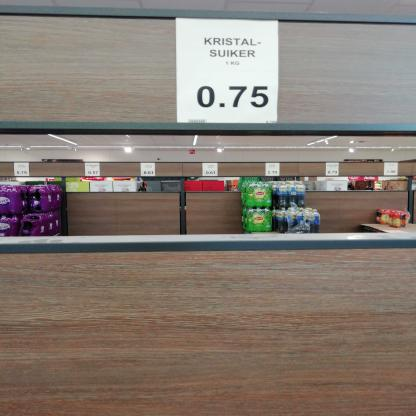prtg: (176, 17, 279, 125)
